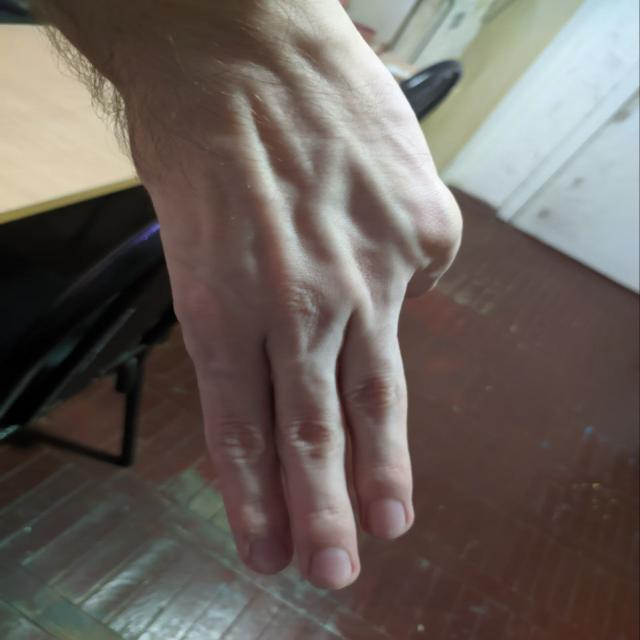t: (102, 74, 481, 594)
